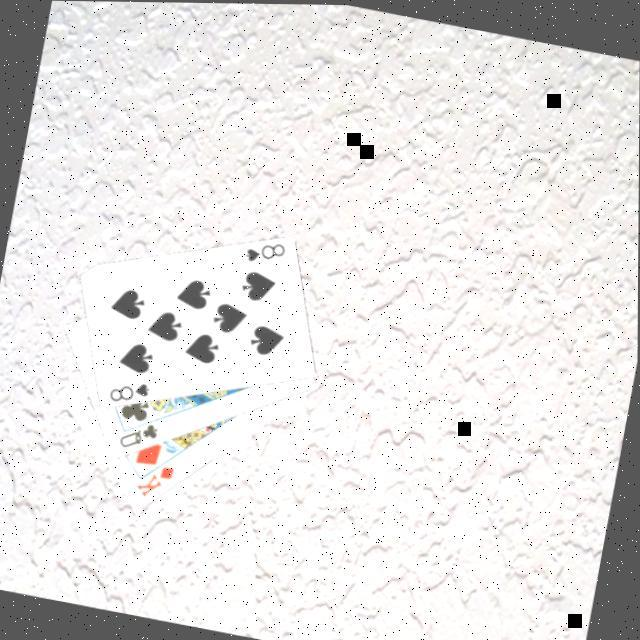8S: (105, 375, 156, 414), (241, 234, 292, 273)
KD: (133, 460, 179, 507)
QC: (116, 416, 163, 459)
